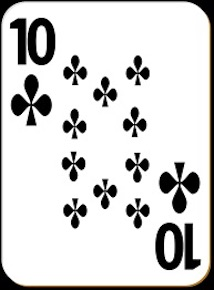TenOfClubs: (1, 1, 212, 286)
